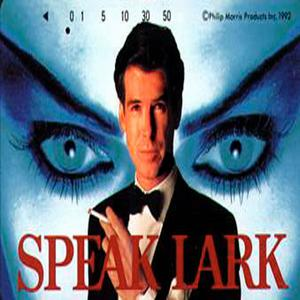cigarette: (85, 207, 119, 229)
